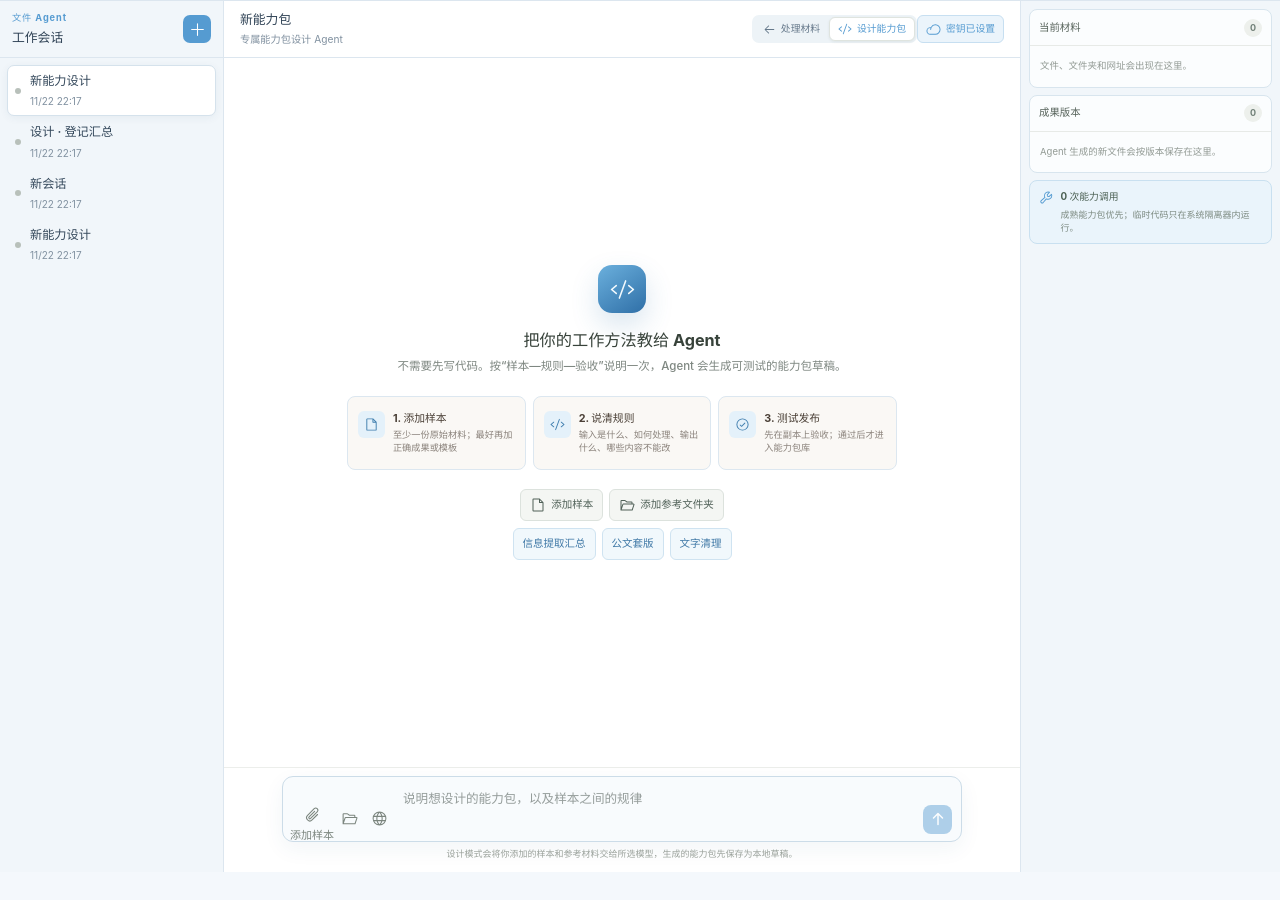
Scenario: does not submit Chinese composition Enter and submits the committed request on plain Enter (13)
This screenshot has width=1280, height=900.
Expected: the button named "新建设计会话" is enabled, [183,15,211,43]
Type "设计公文排版能力" into the text box at [658, 809], box [401,784,916,834]
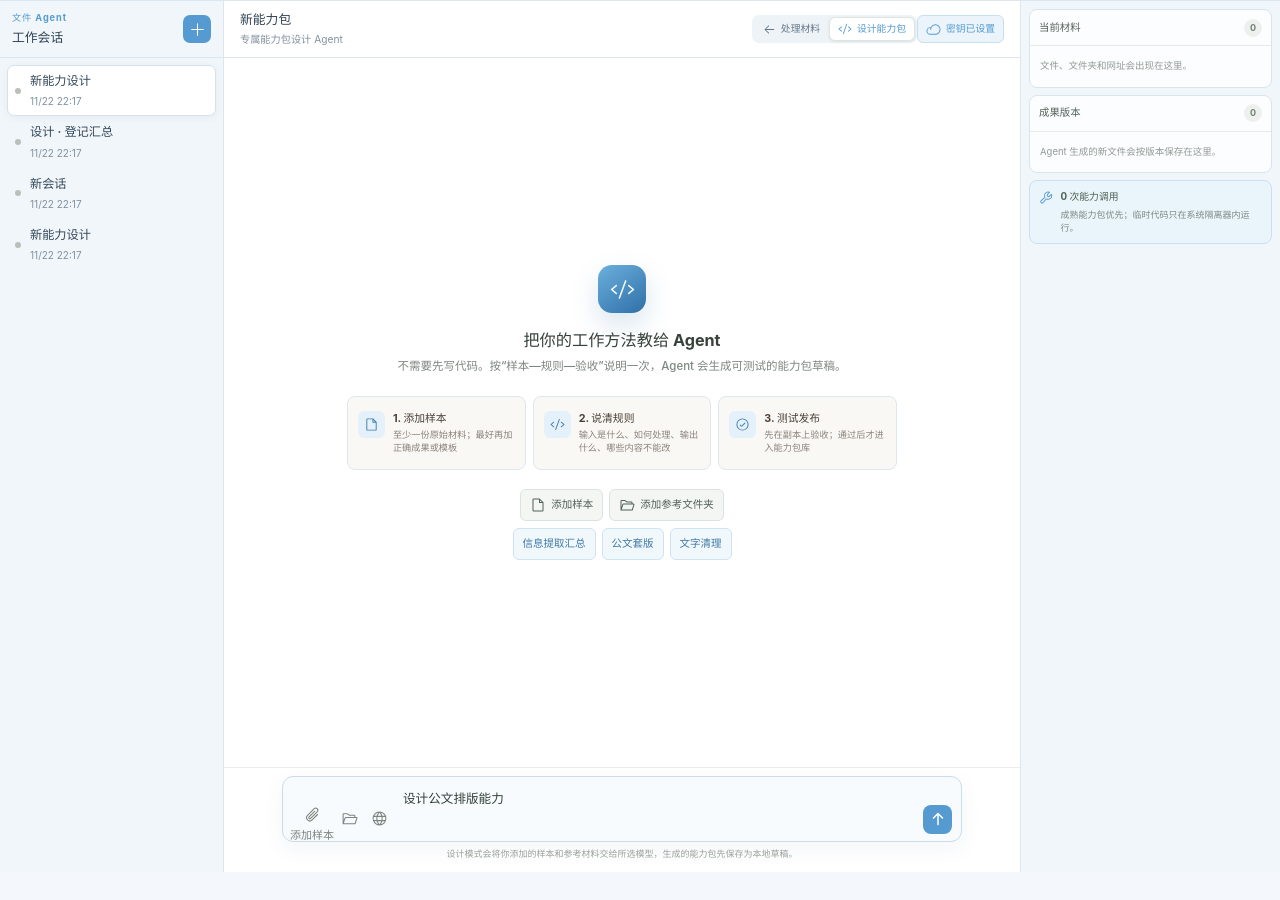
Now the button named "发送消息" is enabled, box [923,804,952,834]
Press Enter in the text box, box [401,784,916,834]
Press Enter in the text box, box [401,784,916,834]
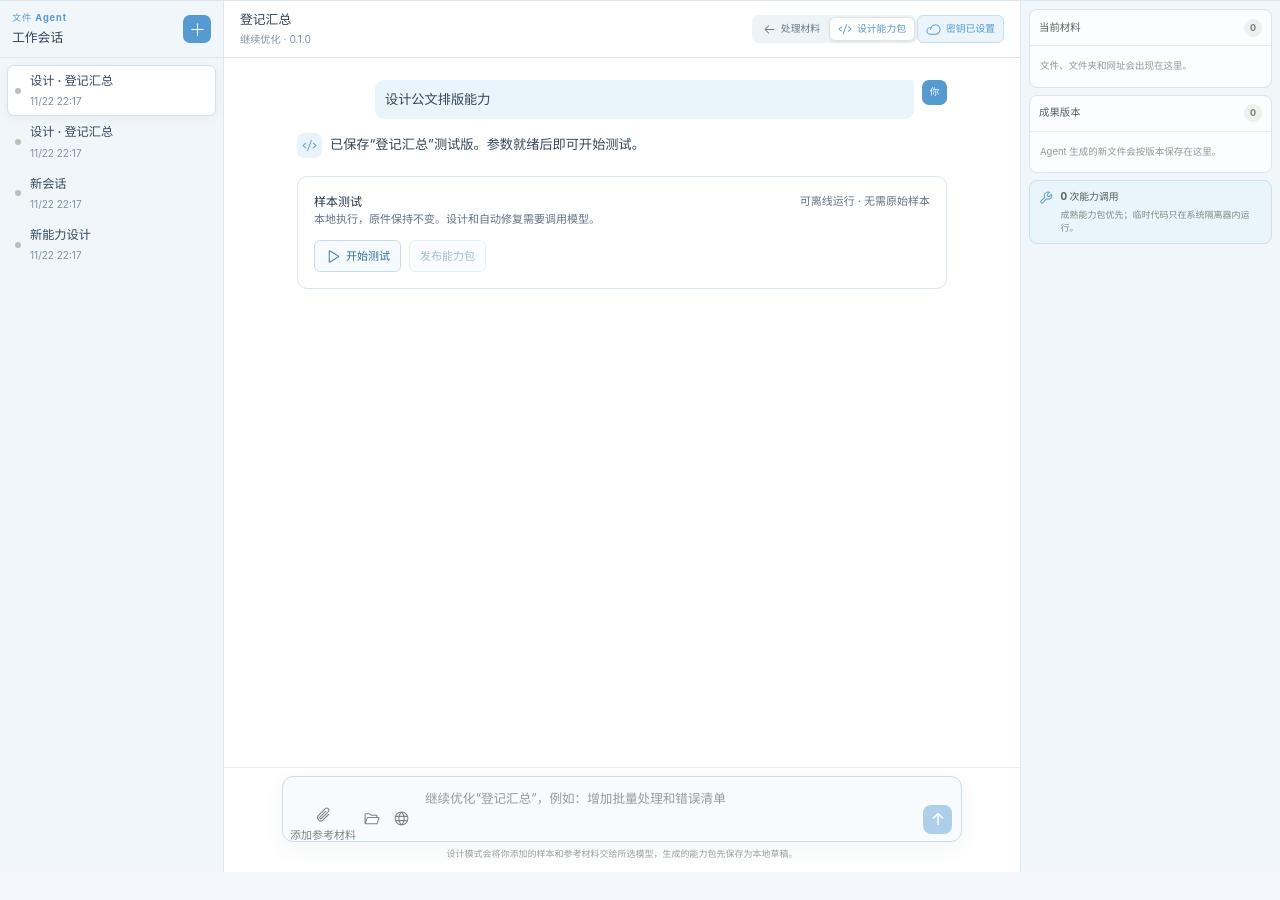
Now the element named "能力包样本测试" is shown, box [297,176,947,289]
